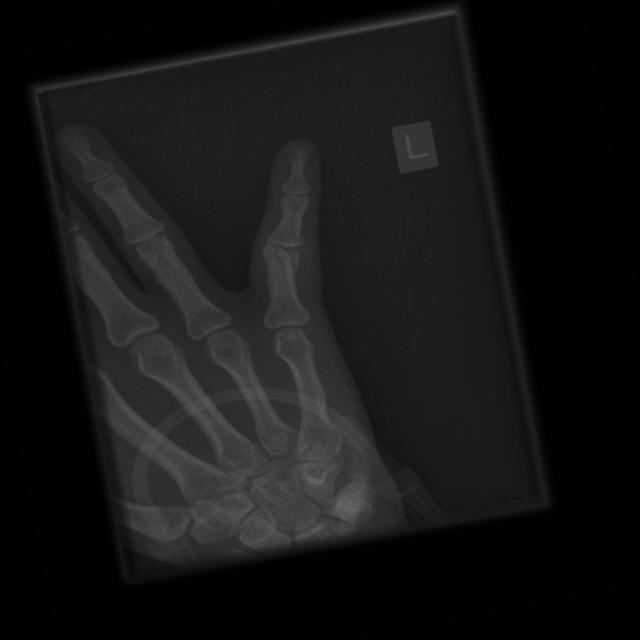fingers positive: (264, 238, 316, 287)
